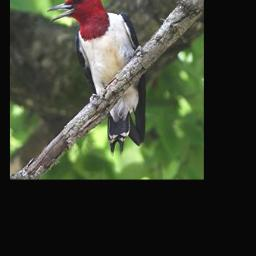Woodpecker: (44, 0, 151, 156)
